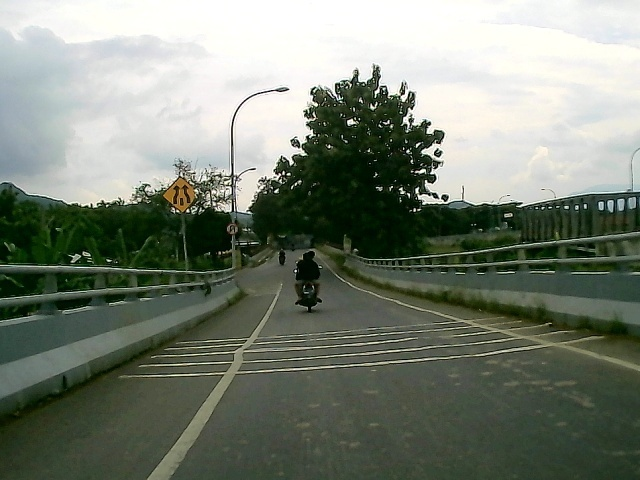Akhir bangunan pemisah satu arah: (160, 174, 201, 214)
Dilarang berbalik arah: (224, 221, 240, 235)
